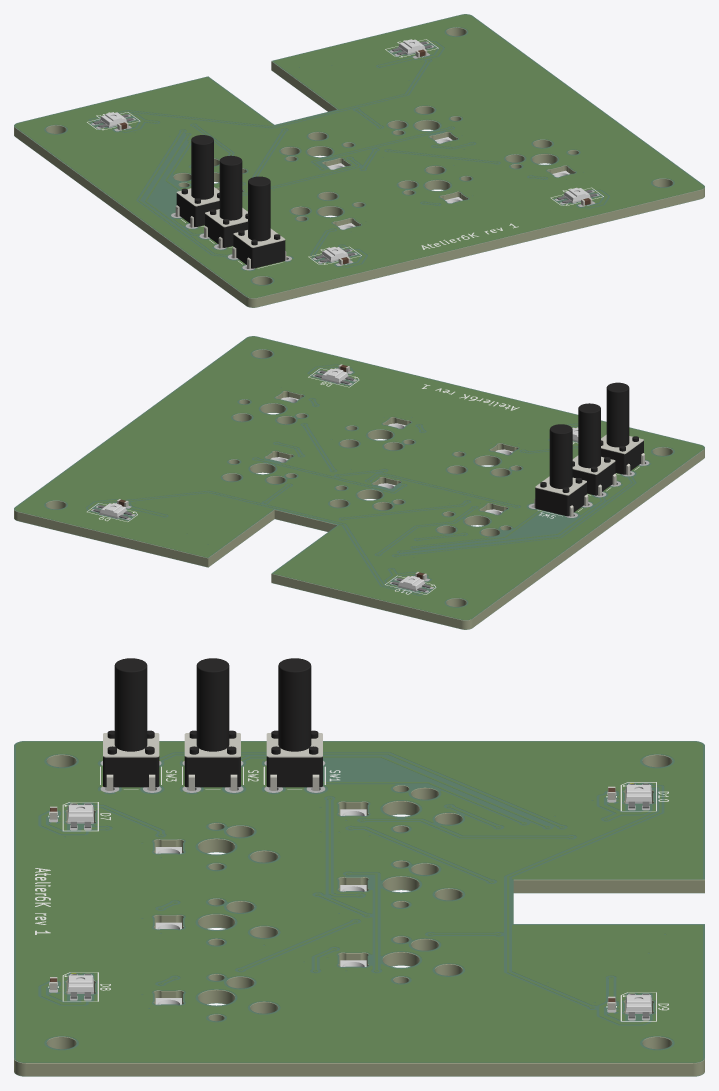
The model's file is atelier6k-rev1.glb.
The picture shows the model from 3 angles, top to bottom: view 1: azimuth 30°, elevation 25°; view 2: azimuth 150°, elevation 25°; view 3: azimuth 270°, elevation 25°; orthographic projection. The views are drawn at different scales.
Visible parts, largest first — view 1: =>[0:1:1:26], =>[0:1:1:21], =>[0:1:1:28], =>[0:1:1:5] (×3), =>[0:1:1:27], =>[0:1:1:24], =>[0:1:1:22]; view 2: =>[0:1:1:26], =>[0:1:1:21], =>[0:1:1:28], =>[0:1:1:5] (×3), =>[0:1:1:27], =>[0:1:1:24]; view 3: =>[0:1:1:26], =>[0:1:1:21], =>[0:1:1:28], =>[0:1:1:5] (×3), =>[0:1:1:24], =>[0:1:1:27], =>[0:1:1:22].
Boxes of the visible parts, x1,y1,x2,y2 form: =>[0:1:1:26]: (14,14,704,298); =>[0:1:1:21]: (16,15,702,297); =>[0:1:1:28]: (14,27,704,307); =>[0:1:1:5] (×3): (175,135,286,268); =>[0:1:1:27]: (14,71,704,307); =>[0:1:1:24]: (87,39,603,268); =>[0:1:1:22]: (91,41,599,270); =>[0:1:1:26]: (14,336,704,620); =>[0:1:1:21]: (16,337,702,619); =>[0:1:1:28]: (14,349,704,629); =>[0:1:1:5] (×3): (534,382,644,516); =>[0:1:1:27]: (14,412,704,629); =>[0:1:1:24]: (87,368,639,594); =>[0:1:1:26]: (14,741,704,1062); =>[0:1:1:21]: (16,742,702,1061); =>[0:1:1:28]: (14,744,704,1076); =>[0:1:1:5] (×3): (103,658,322,790); =>[0:1:1:24]: (35,766,668,1021); =>[0:1:1:27]: (14,814,704,1076); =>[0:1:1:22]: (49,761,649,1020).
Bounding box in the file's own units: 0.0813 × 0.0165 × 0.0737.
